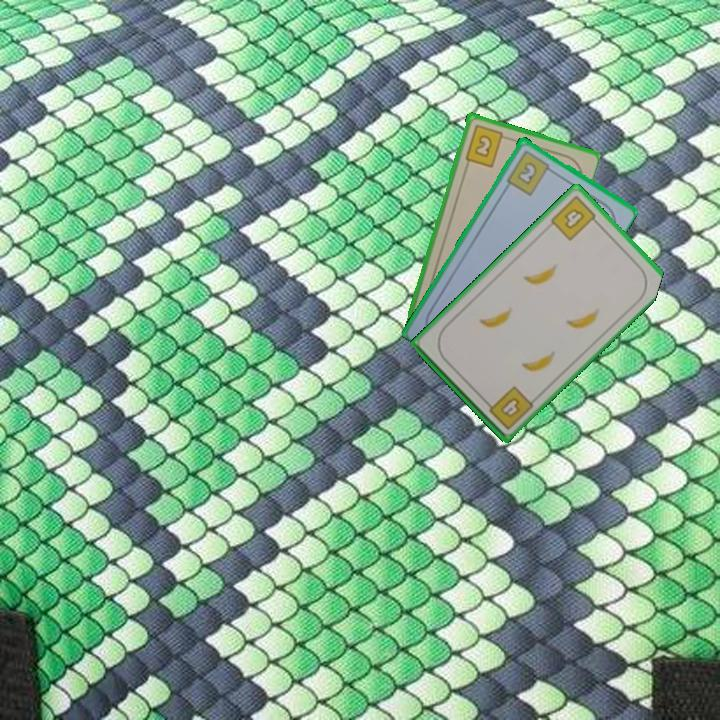2b: (503, 146, 556, 198), (461, 121, 511, 169)
4b: (547, 192, 602, 243), (481, 382, 536, 432)
